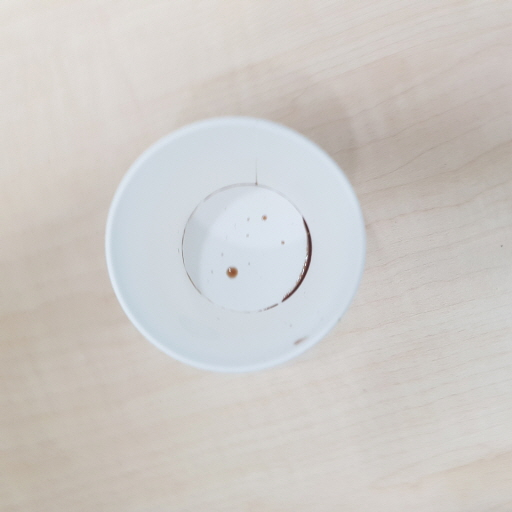Paper_1: (103, 117, 368, 372)
